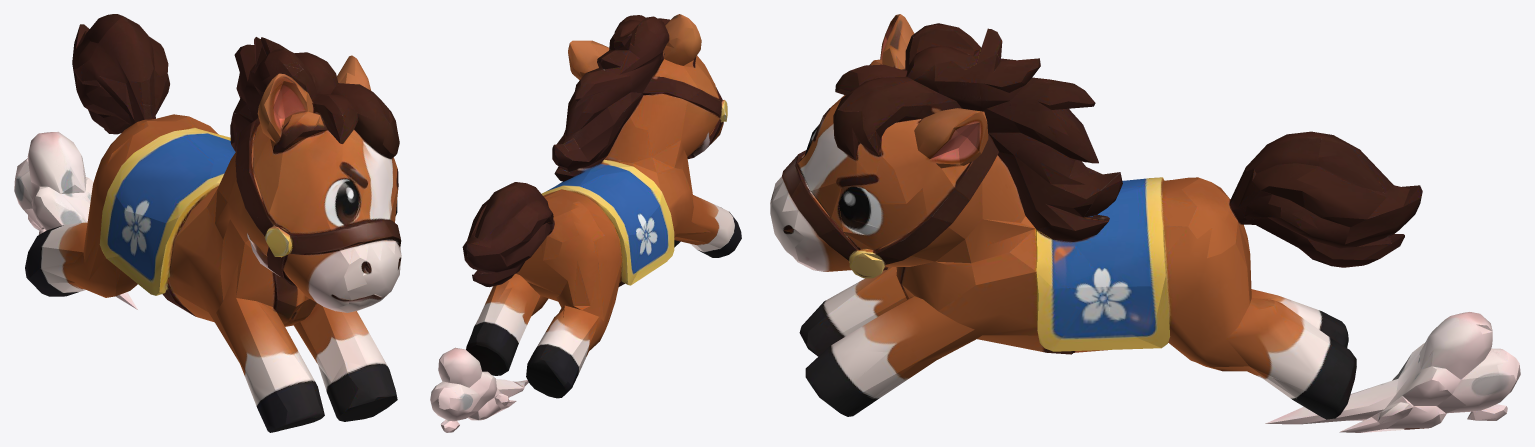
The model's file is pony.glb.
3 renders of one model, left to right at view 1: azimuth 30°, elevation 25°; view 2: azimuth 150°, elevation 25°; view 3: azimuth 270°, elevation 25°, orthographic. The views are drawn at different scales.
Visible parts, largest first — view 1: pony; view 2: pony; view 3: pony.
Boxes of the visible parts, x1,y1,x2,y2 form: pony: (14, 14, 401, 432); pony: (430, 14, 741, 432); pony: (770, 14, 1520, 432).
Bounding box in the file's own units: 0.53 × 1.11 × 1.9.
Materials: 1 (1 with a texture image).
